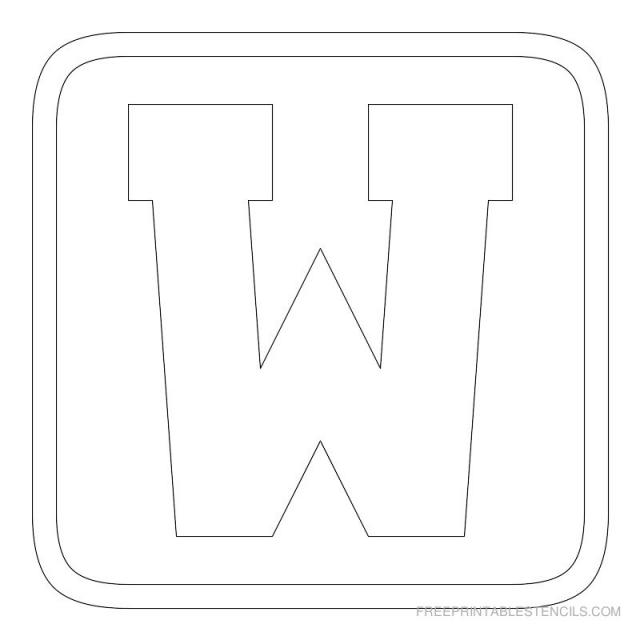W: (96, 75, 541, 560)
